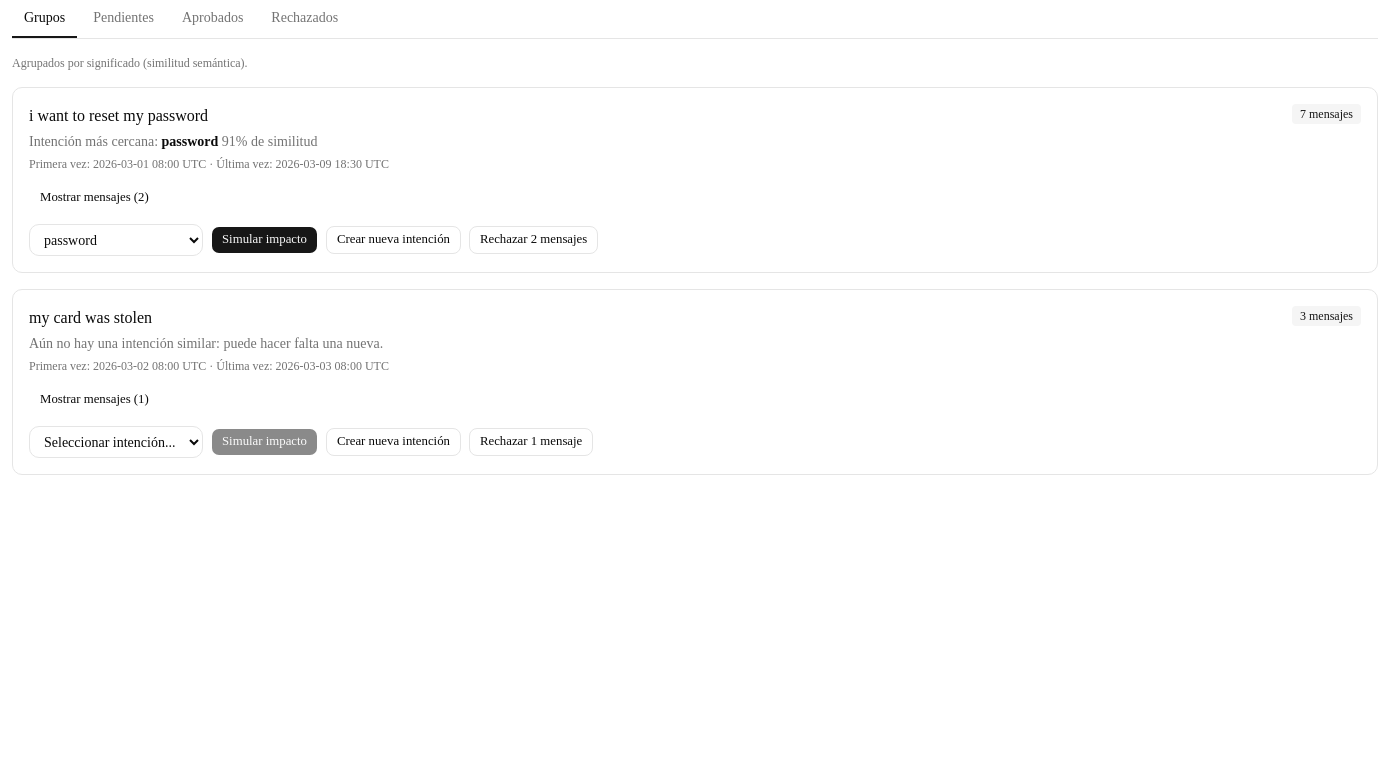
Test: ReviewClusters: impact simulation › simulates the selected members and shows matches, regressions and the estimate scope
Click the button "Simular impacto" below "Intención más cercana:".
click(264, 240)  # box [211, 226, 318, 254]
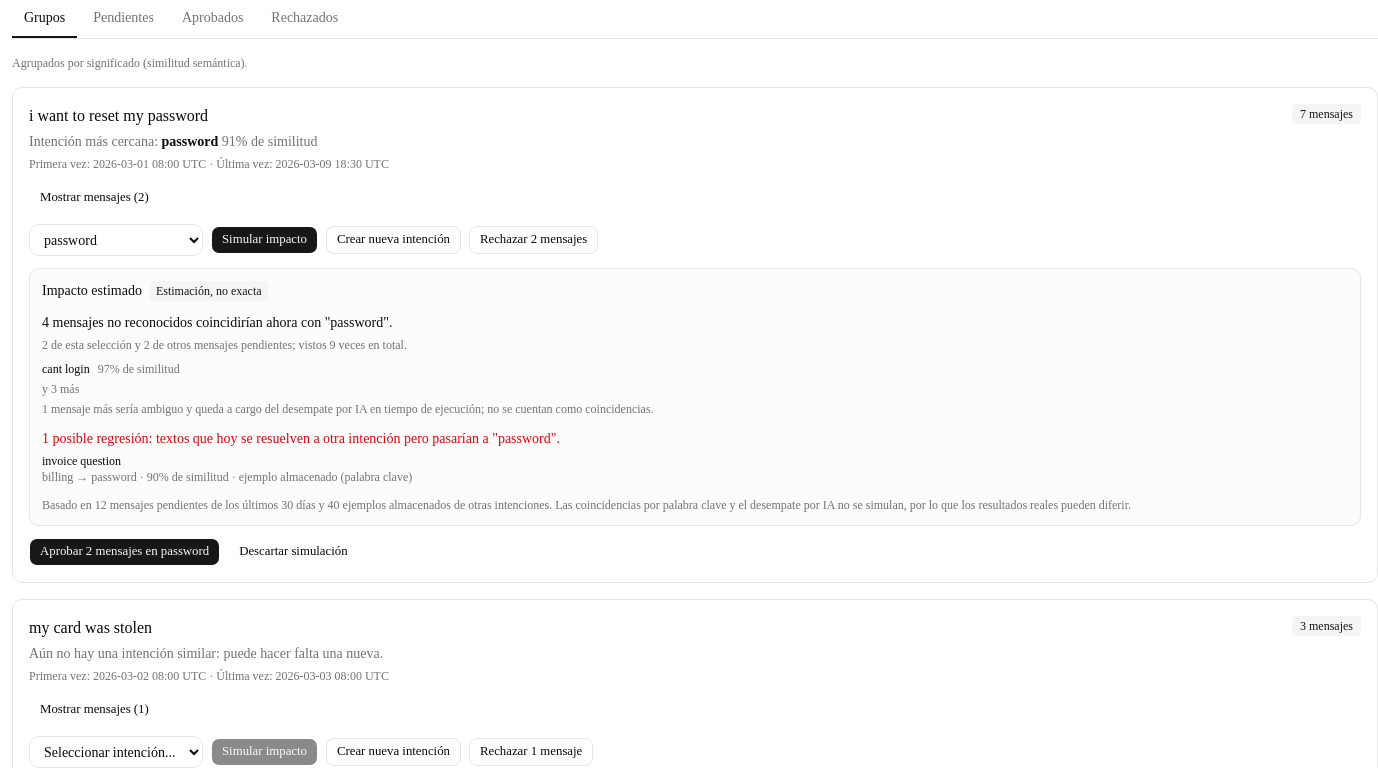
Now the text "Estimación, no exacta" is shown, box [150, 281, 268, 301]
Now the text "4 mensajes no reconocidos coincidirían ahora con \"password\"." is shown, box [42, 315, 392, 330]
Now the text "cant login" is shown, box [42, 361, 90, 377]
